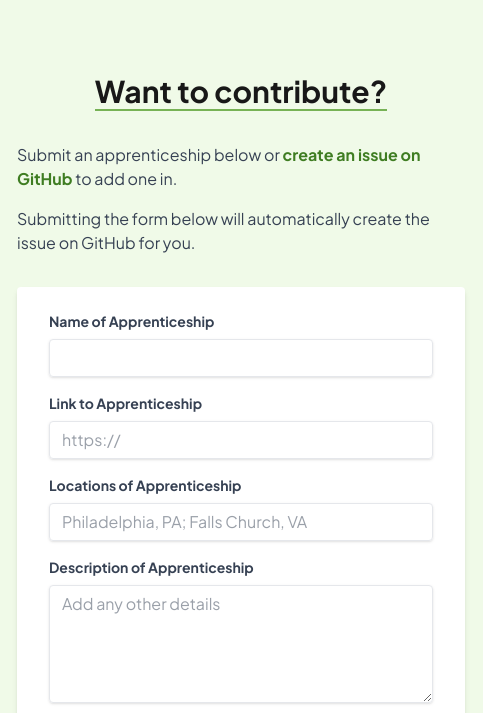
Test: SubmitForm › shows the error message when submitting fails
The image size is (483, 713).
Type "Acme" into the field labelled "Name of Apprenticeship".
click(241, 358); type("Acme")  # box [49,339,433,377]
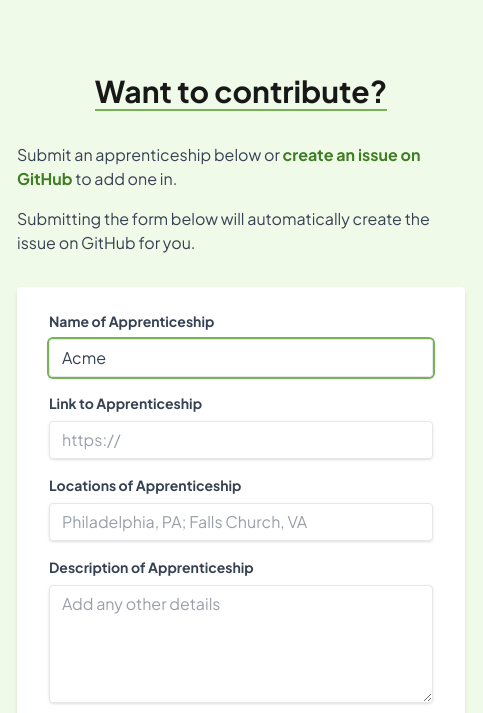
Type "https://acme.example" into the field labelled "Link to Apprenticeship".
click(241, 440); type("https://acme.example")  # box [49,421,433,459]
(page scrolled)
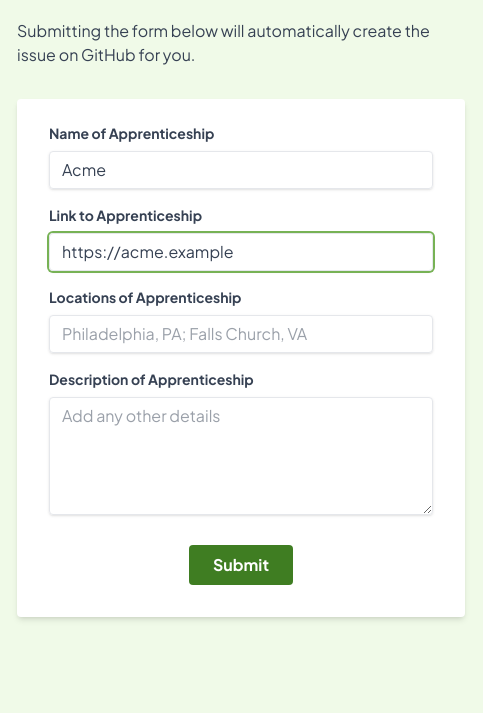
Click the button "Submit".
click(241, 565)  # box [189,545,293,585]
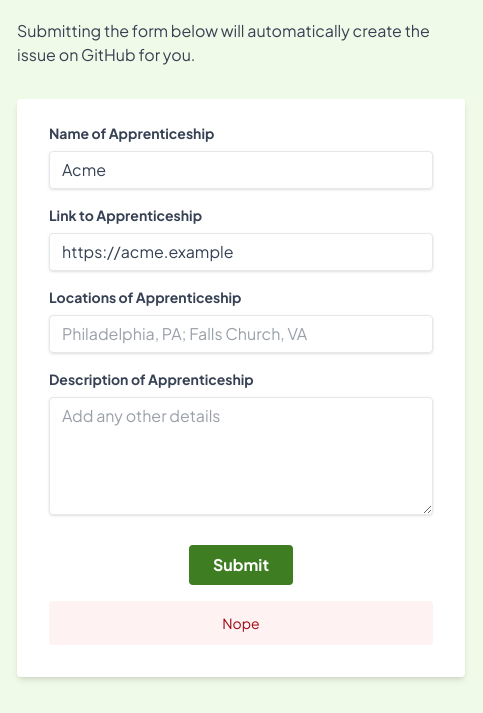
Check: the text "Nope" is shown, box [49,601,433,645]
